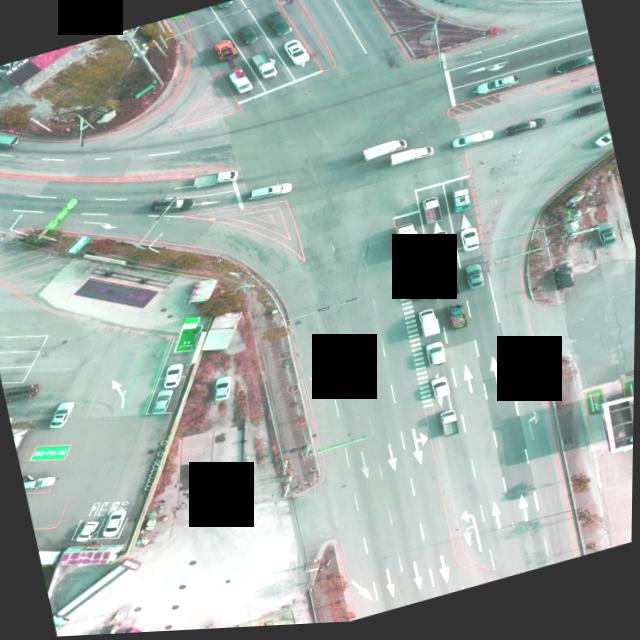car: (147, 191, 196, 221), (246, 181, 293, 205), (44, 401, 79, 430), (473, 78, 518, 100), (281, 40, 310, 73), (451, 135, 492, 156), (504, 123, 545, 144), (552, 60, 595, 80), (146, 391, 175, 419), (264, 12, 291, 42), (159, 365, 187, 393), (550, 268, 577, 297), (100, 513, 129, 540), (23, 471, 56, 494), (592, 227, 617, 256), (209, 376, 235, 403), (423, 346, 447, 375), (71, 522, 100, 546), (461, 268, 484, 296), (0, 124, 20, 154), (459, 232, 482, 258), (236, 25, 259, 50), (409, 284, 431, 310), (575, 107, 606, 125), (430, 380, 451, 404), (591, 135, 613, 156), (211, 3, 232, 14)
medium_truck: (49, 558, 151, 628), (392, 225, 424, 265), (3, 381, 43, 407)
small_truck: (190, 169, 240, 195), (385, 150, 433, 174), (359, 142, 407, 165), (248, 53, 277, 85), (416, 312, 442, 345), (225, 70, 253, 100), (437, 274, 463, 305), (429, 232, 454, 263), (417, 202, 442, 233), (437, 413, 461, 444), (449, 192, 474, 221), (446, 308, 469, 336), (11, 424, 32, 454), (588, 87, 601, 99)
